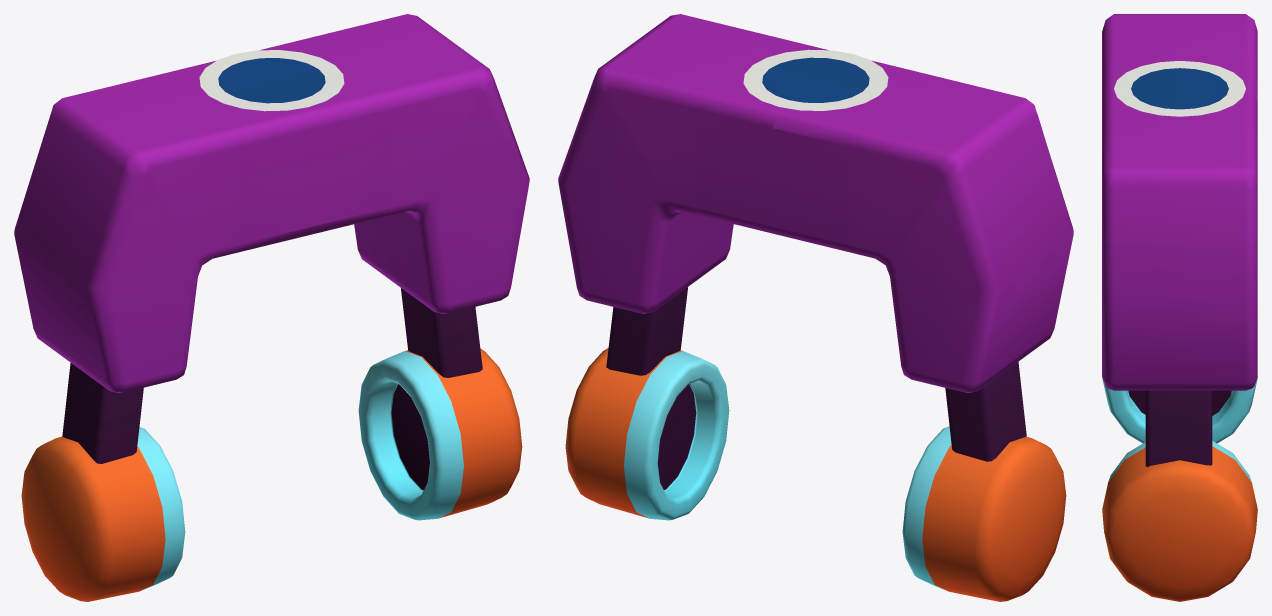
3 renders of one model, left to right at view 1: azimuth 30°, elevation 25°; view 2: azimuth 150°, elevation 25°; view 3: azimuth 270°, elevation 25°, orthographic. The views are drawn at different scales.
Parts seen in each view (by area): view 1: shape2_1, top_cycle; view 2: shape2_1, top_cycle; view 3: shape2_1, top_cycle.
Boxes of the visible parts, x1=… form: shape2_1: x1=14, y1=14, x2=529, y2=601; top_cycle: x1=199, y1=50, x2=344, y2=111; shape2_1: x1=558, y1=14, x2=1073, y2=601; top_cycle: x1=743, y1=49, x2=888, y2=110; shape2_1: x1=1102, y1=14, x2=1257, y2=601; top_cycle: x1=1114, y1=61, x2=1245, y2=116.
Size of the model in its own units: 15 by 15.06 by 5.
